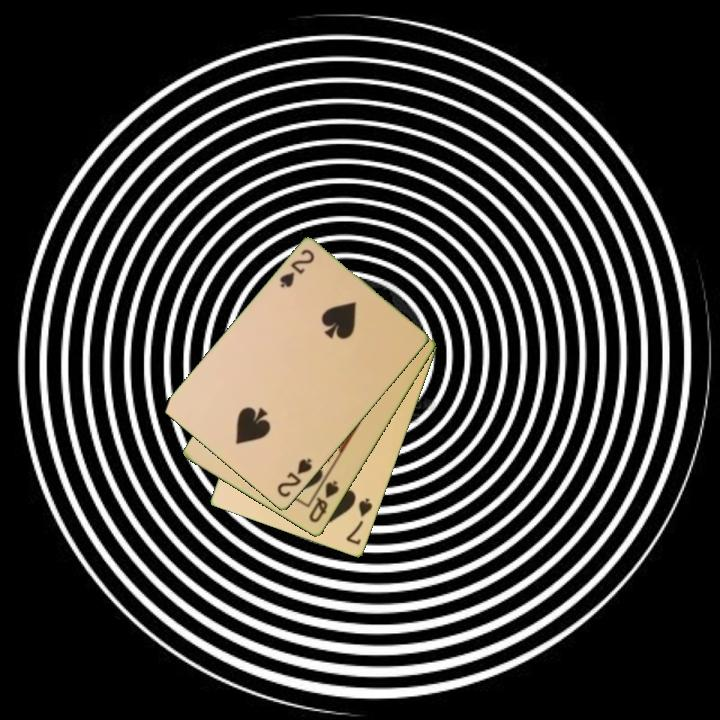2s: (274, 455, 315, 501), (276, 246, 317, 291)
7s: (342, 495, 376, 548)
Qs: (305, 477, 342, 526)
